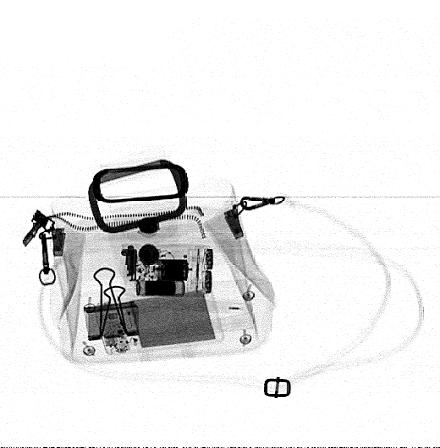Powerbank: (92, 284, 224, 357)
